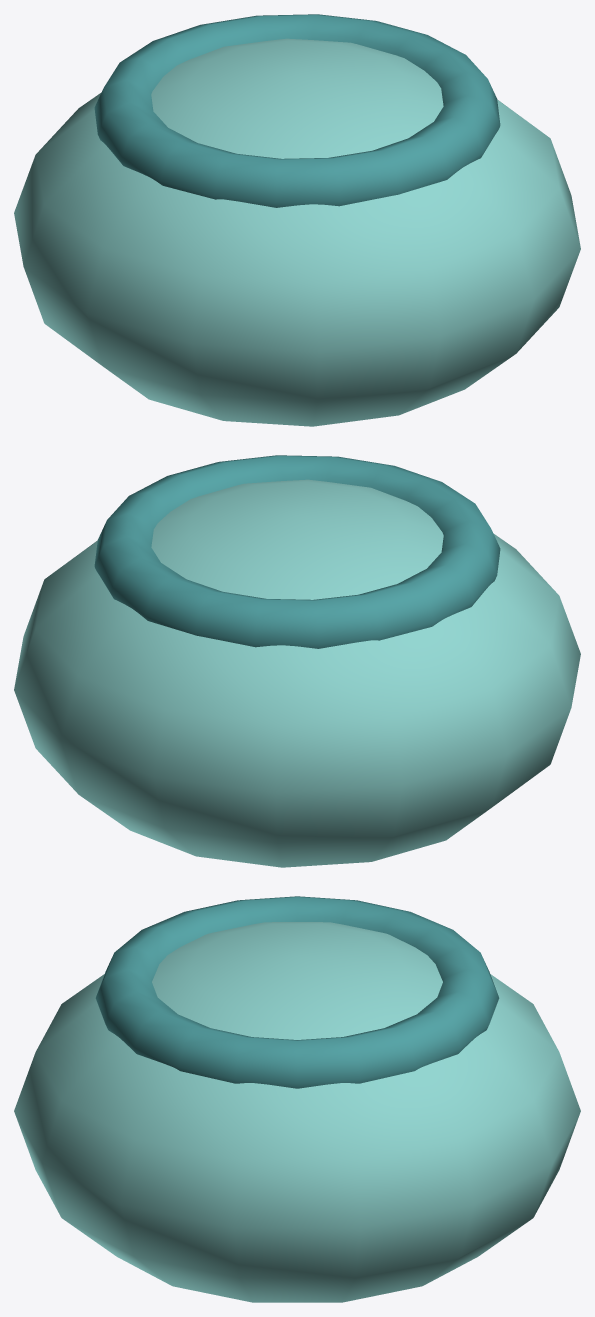
Rendered from opera_candymaker_candy_5.glb.
3 renders of one model, top to bottom at view 1: azimuth 30°, elevation 25°; view 2: azimuth 150°, elevation 25°; view 3: azimuth 270°, elevation 25°, orthographic.
Parts seen in each view (by area): view 1: VisualMesh.006; view 2: VisualMesh.006; view 3: VisualMesh.006.
Part boxes in pixels (x1=…): VisualMesh.006: x1=14, y1=14, x2=580, y2=426; VisualMesh.006: x1=14, y1=455, x2=580, y2=867; VisualMesh.006: x1=14, y1=896, x2=580, y2=1302.
Bounding box in the file's own units: 2.44 × 1.5 × 2.5.
